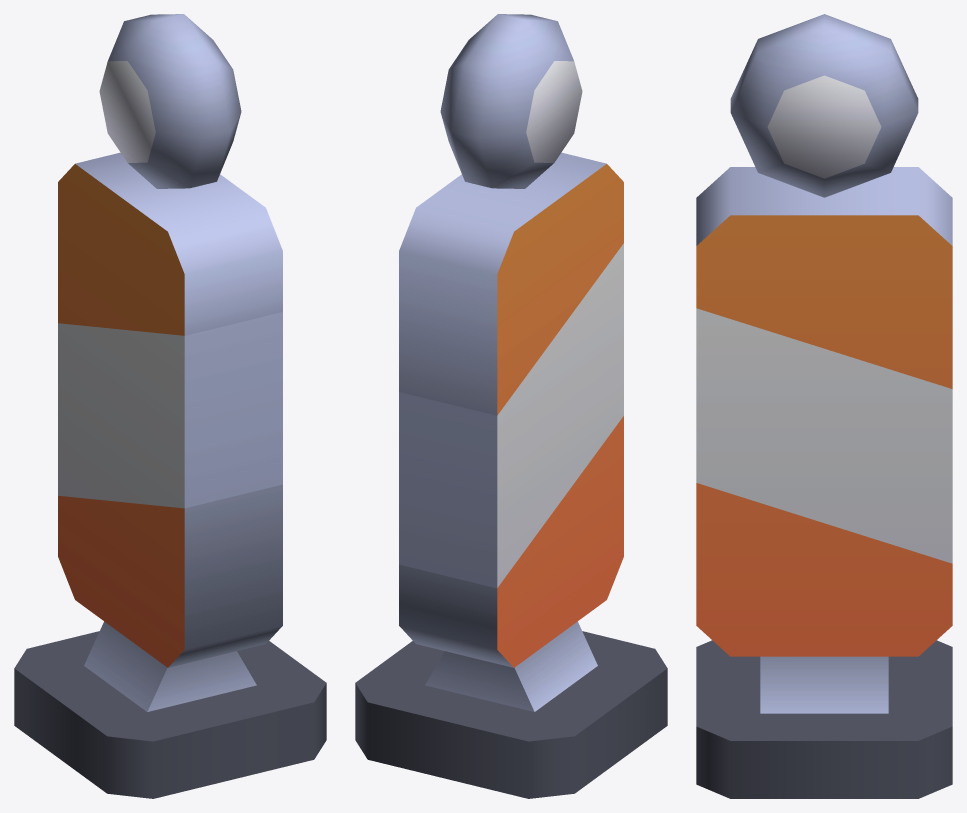
The model's file is construction-light.glb.
3 views of the same model, side by side, from view 1: azimuth 30°, elevation 25°; view 2: azimuth 150°, elevation 25°; view 3: azimuth 270°, elevation 25° (orthographic).
Parts seen in each view (by area): view 1: construction-light; view 2: construction-light; view 3: construction-light.
Part boxes in pixels (left/top/right/bottom): construction-light: left=14, top=14, right=326, bottom=798; construction-light: left=355, top=14, right=667, bottom=798; construction-light: left=696, top=14, right=952, bottom=798.
Bounding box in the file's own units: 0.075 × 0.2337 × 0.075.
1 material, 1 textured.
